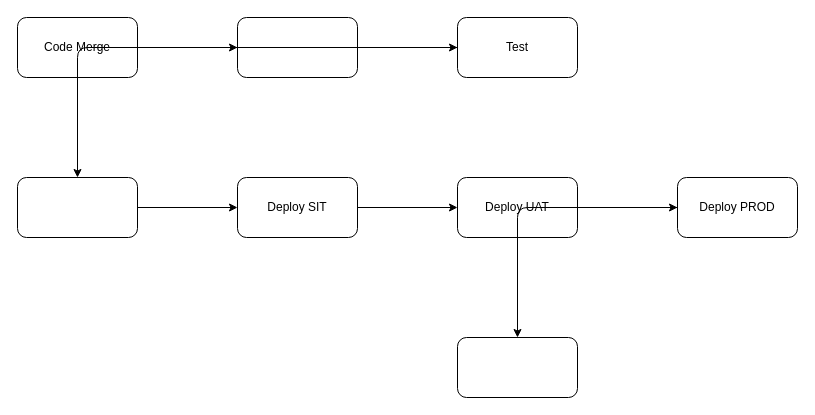
This 815x415 diagram has some shape labels left out. The box of each missing label's shape, as (x1, y1, x2, y2) in pixels:
Build Vite: (236, 16, 358, 78)
Deploy DEV: (16, 176, 138, 238)
Smoke Test: (456, 336, 578, 398)
